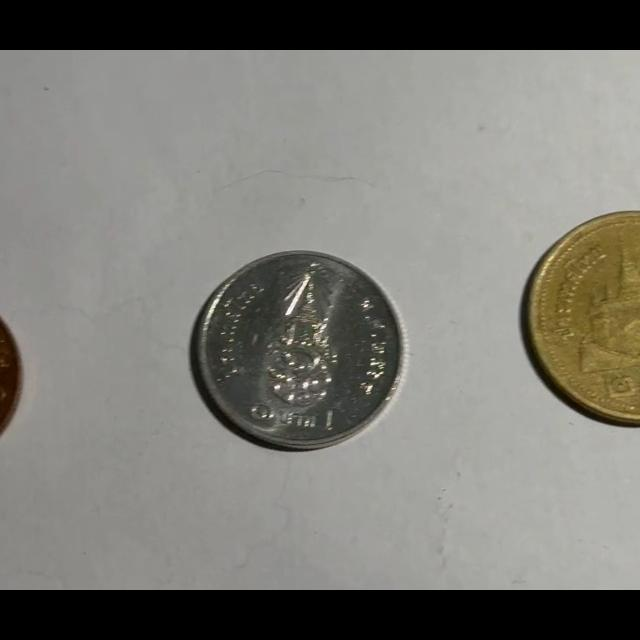1-baht: (191, 251, 405, 451)
2-baht: (522, 211, 640, 425)
